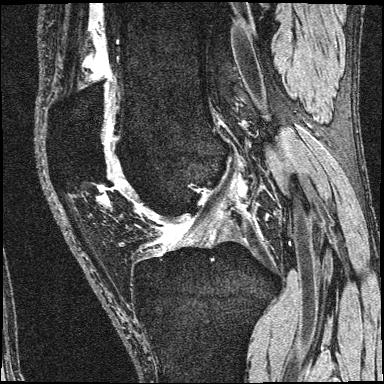SagKneeJointArea: (45, 76, 284, 321)
